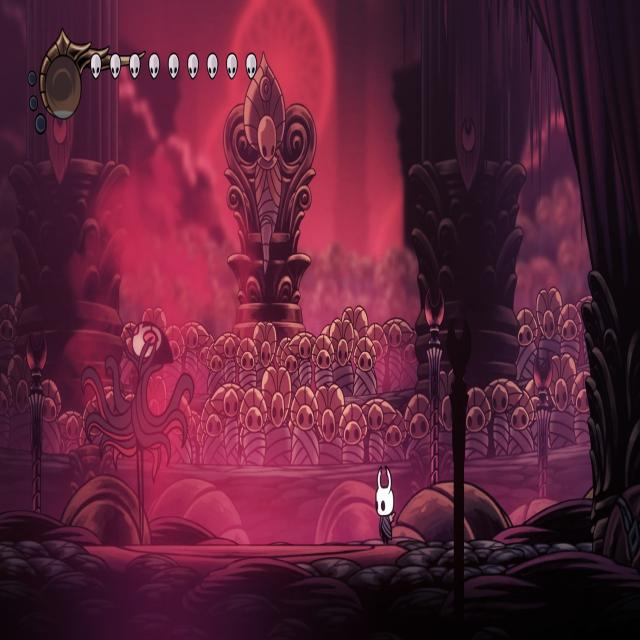Grimm: (78, 314, 197, 549)
Player: (374, 462, 399, 549)
